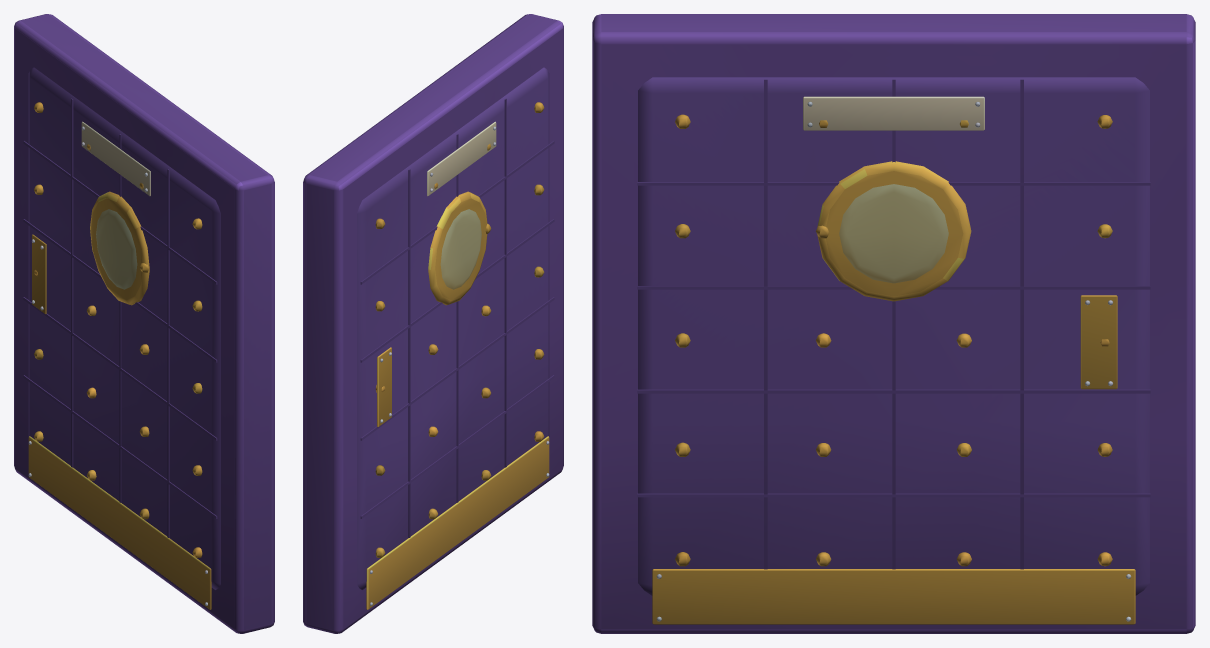
File: SM_Door_Projection_Panel.fbx
3 renders of one model, left to right at view 1: azimuth 30°, elevation 25°; view 2: azimuth 150°, elevation 25°; view 3: azimuth 270°, elevation 25°, orthographic. The views are drawn at different scales.
Parts seen in each view (by area): view 1: SM_Door_Projection_Panel; view 2: SM_Door_Projection_Panel; view 3: SM_Door_Projection_Panel.
Boxes of the visible parts, x1,y1,x2,y2 form: SM_Door_Projection_Panel: (14,14,274,633); SM_Door_Projection_Panel: (303,14,563,633); SM_Door_Projection_Panel: (592,14,1195,633).
Bounding box in the file's own units: 31.33 × 220 × 200.
